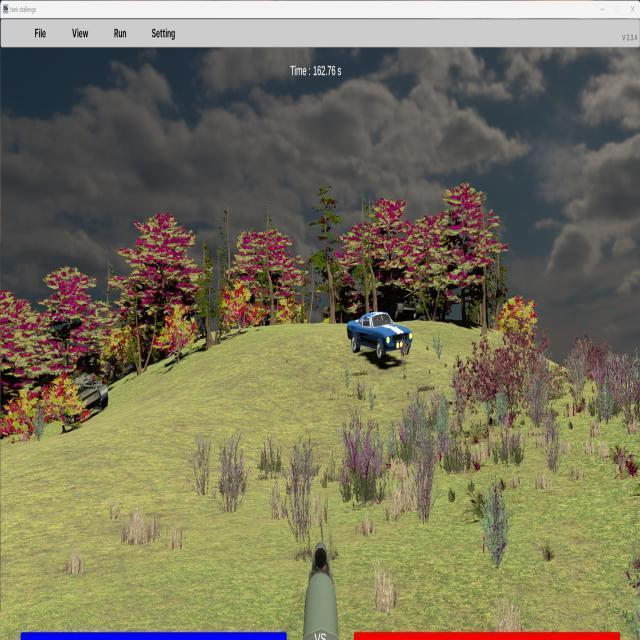Tank: (64, 372, 109, 413)
car: (347, 310, 413, 360)
